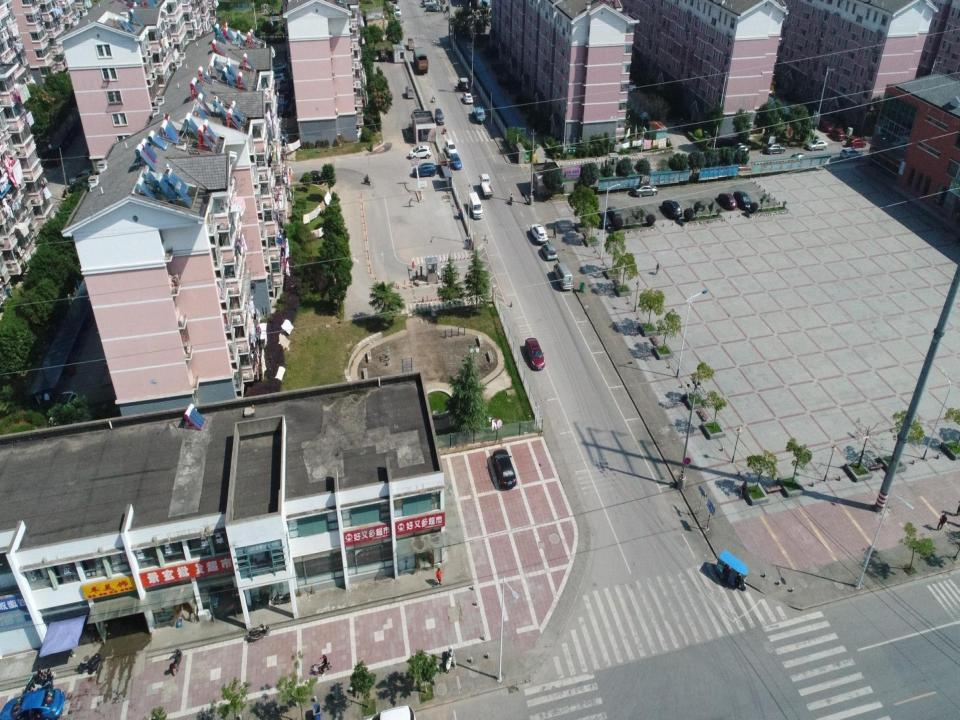car: (0, 674, 65, 720), (48, 390, 79, 426), (492, 448, 517, 490), (355, 705, 417, 719), (524, 337, 546, 371), (720, 142, 750, 162), (68, 167, 94, 185), (732, 190, 753, 211), (661, 199, 683, 219), (632, 182, 658, 198), (84, 144, 107, 162), (412, 162, 436, 178), (784, 152, 809, 167), (409, 144, 432, 160), (530, 223, 548, 243), (718, 192, 738, 210), (541, 241, 558, 261), (805, 138, 829, 152), (595, 209, 612, 228), (827, 125, 846, 142), (846, 134, 867, 149), (762, 142, 786, 155), (840, 146, 862, 160), (816, 117, 835, 133), (444, 138, 459, 158), (266, 71, 286, 85), (270, 96, 290, 110), (449, 152, 462, 170), (625, 75, 637, 93), (269, 61, 288, 72), (462, 90, 473, 104), (425, 2, 439, 12), (371, 49, 379, 62), (394, 4, 402, 16)
truck: (412, 45, 429, 75), (478, 172, 494, 200)
van: (553, 261, 574, 290), (467, 190, 484, 220), (605, 205, 622, 224), (434, 108, 445, 126), (404, 85, 414, 99), (421, 0, 437, 6)
